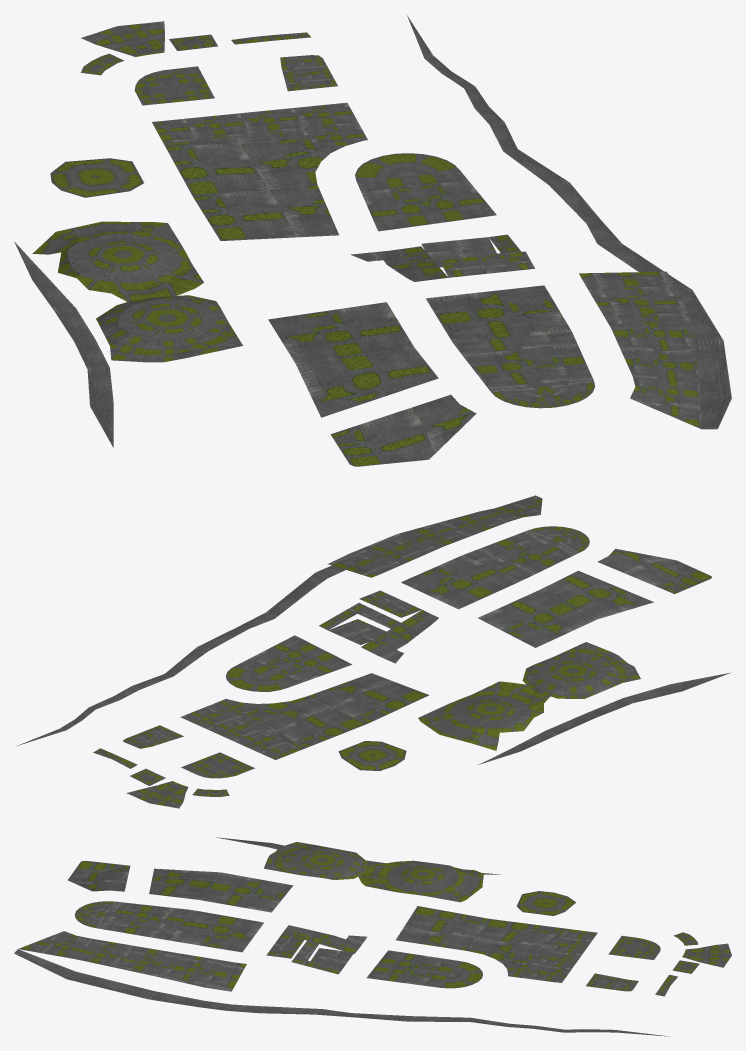
Rendered from City ground.fbx.
3 views of the same model, one above another, from view 1: azimuth 30°, elevation 25°; view 2: azimuth 150°, elevation 25°; view 3: azimuth 270°, elevation 25° (orthographic). The views are drawn at different scales.
Parts seen in each view (by area): view 1: polySurface4, polySurface1, polySurface7, polySurface2, polySurface12, polySurface3, polySurface5, polySurface11, polySurface6, polySurface8, polySurface9, polySurface16 (+1 smaller); view 2: polySurface4, polySurface7, polySurface1, polySurface2, polySurface12, polySurface11, polySurface3, polySurface5, polySurface6, polySurface8, polySurface9, polySurface16 (+1 smaller); view 3: polySurface1, polySurface4, polySurface7, polySurface2, polySurface12, polySurface3, polySurface11, polySurface5, polySurface8, polySurface9, polySurface16, polySurface13.
Part boxes in pixels (x1,y1,x2,y2): polySurface4: [152, 102, 367, 240]; polySurface1: [407, 15, 731, 429]; polySurface7: [32, 221, 242, 362]; polySurface2: [426, 285, 594, 408]; polySurface12: [268, 302, 438, 417]; polySurface3: [355, 153, 496, 231]; polySurface5: [330, 394, 476, 466]; polySurface11: [351, 234, 534, 281]; polySurface6: [14, 242, 113, 447]; polySurface8: [50, 158, 143, 197]; polySurface9: [134, 66, 214, 105]; polySurface16: [81, 21, 164, 56]; polySurface4: [180, 673, 429, 759]; polySurface7: [418, 642, 640, 750]; polySurface1: [16, 495, 542, 746]; polySurface2: [401, 526, 589, 609]; polySurface12: [478, 570, 653, 647]; polySurface11: [319, 590, 438, 663]; polySurface3: [226, 635, 352, 691]; polySurface5: [597, 548, 711, 593]; polySurface6: [478, 672, 730, 764]; polySurface8: [338, 741, 406, 771]; polySurface9: [181, 752, 254, 778]; polySurface16: [126, 781, 188, 808]; polySurface1: [14, 931, 669, 1036]; polySurface4: [396, 906, 597, 982]; polySurface7: [264, 842, 483, 902]; polySurface2: [74, 901, 263, 952]; polySurface12: [149, 868, 293, 912]; polySurface3: [366, 950, 482, 988]; polySurface11: [266, 925, 367, 974]; polySurface5: [68, 860, 130, 891]; polySurface8: [516, 891, 575, 915]; polySurface9: [608, 935, 660, 959]; polySurface16: [682, 943, 731, 967]; polySurface13: [586, 973, 638, 991].
Bounding box in the file's own units: 20856 × 1300 × 31505.
Materials: 1 (1 with a texture image).
